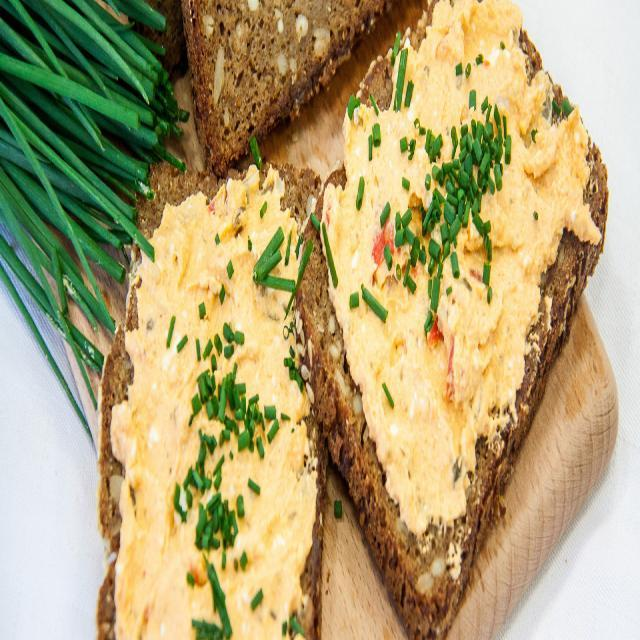Spread: (353, 91, 552, 453), (144, 234, 296, 640)
